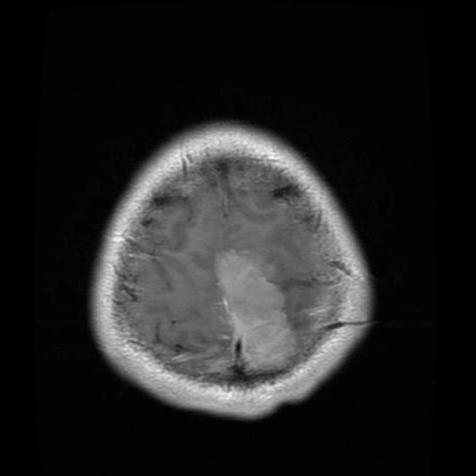Tumour-Pituitary: (209, 235, 311, 390)
